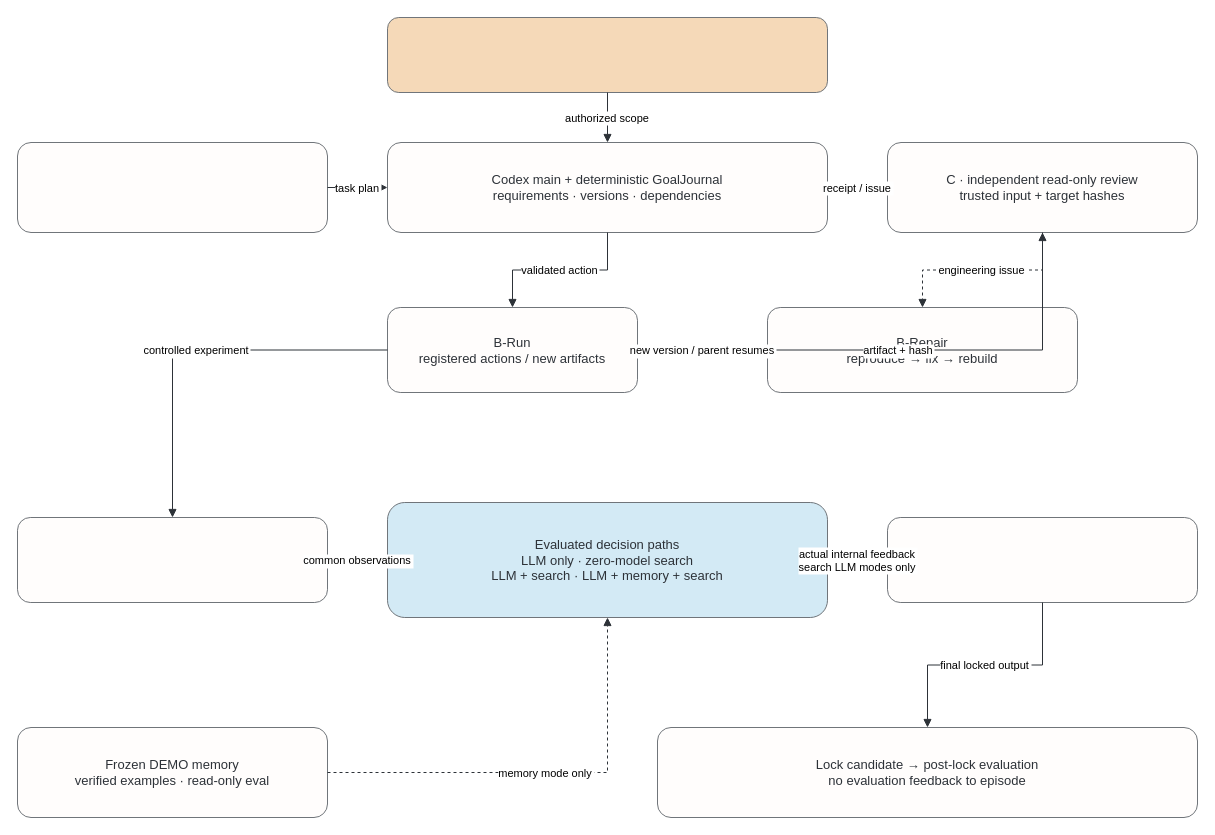
Some shapes in this 1215 by 835 pixel diagram are drawn without their labels. Here are the shapes that lost their labels. From the top down, the centre of each, then its label:
pixel 607 54: User + web GPT research judgment / remote review
pixel 172 187: A · diagnosis / planning contract and bounded proposals
pixel 172 559: Fixed raw diagnostic cards record / split / contract handles
pixel 1042 559: S / D / P deterministic tools complete point ledger
